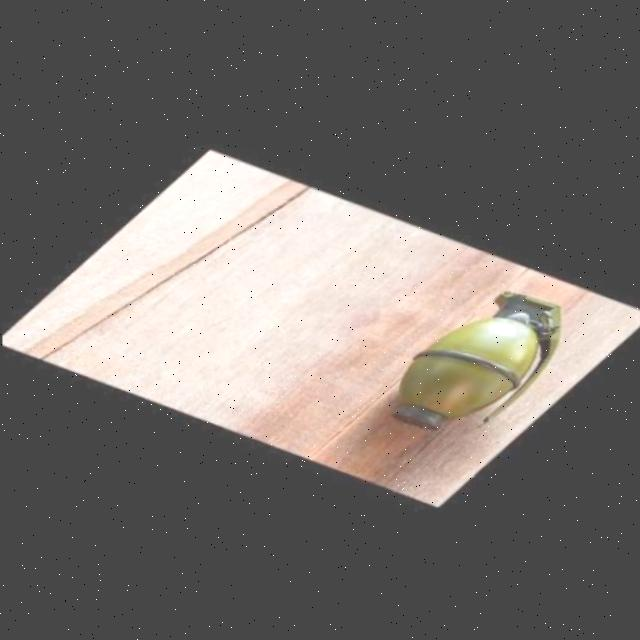grenade: (349, 258, 594, 465)
